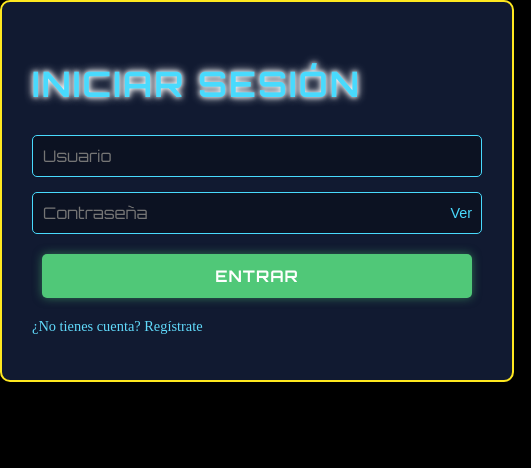
Scenario: Componente Auth › 4. Envía solicitud de registro y pasa a la verificación
Click the text "¿No tienes cuenta? Regístrate": (117, 326) [32,318,203,334]
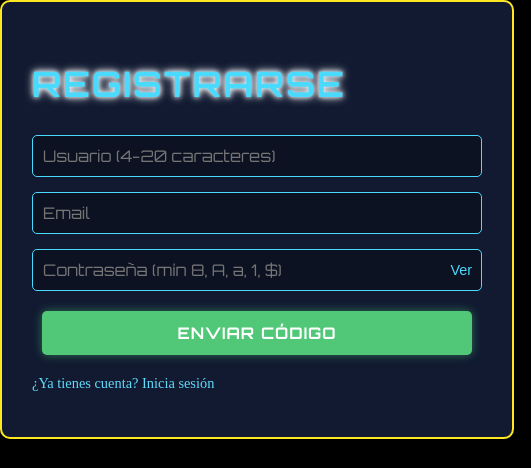
In the field with placeholder "Usuario (4-20 caracteres)": (257, 156) [32,135,482,177], type "usuarioValido"
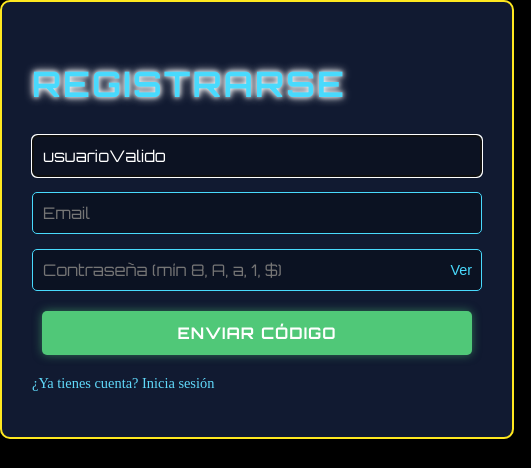
In the field with placeholder "Email": (257, 213) [32,192,482,234], type "test@test.com"
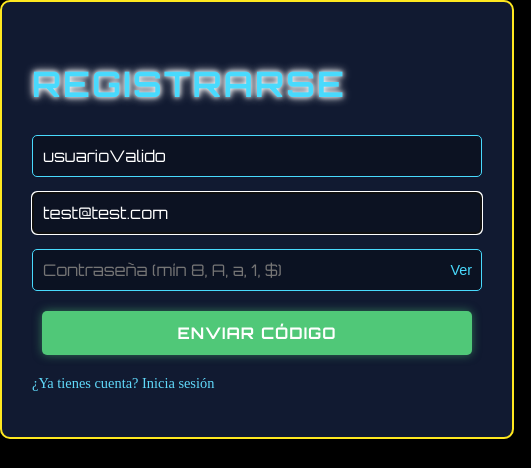
In the password field with placeholder "Contraseña (mín 8, A, a, 1, $)": (257, 270) [32,249,482,291], type "ValidPass123!"
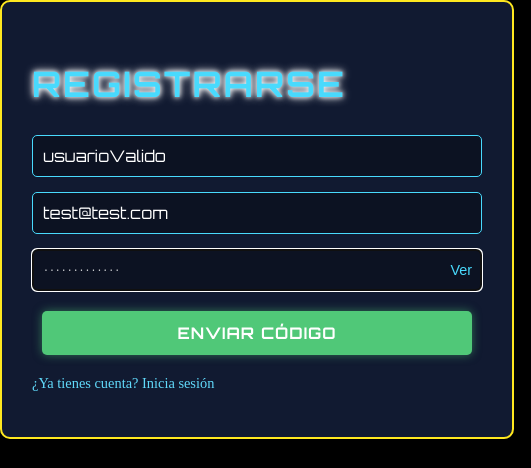
Click the button "Enviar Código": (257, 333) [42,311,472,355]
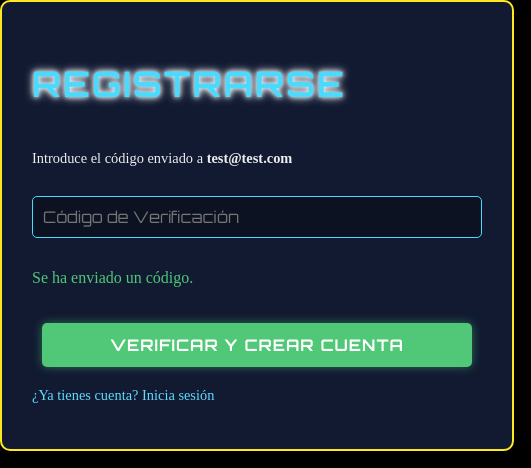
Now the text "Introduce el código enviado a test@test.com" is shown, box [32,150,292,166]
Now the field with placeholder "Código de Verificación" is shown, box [32,196,482,238]
Now the button "Verificar y Crear Cuenta" is shown, box [42,323,472,367]
